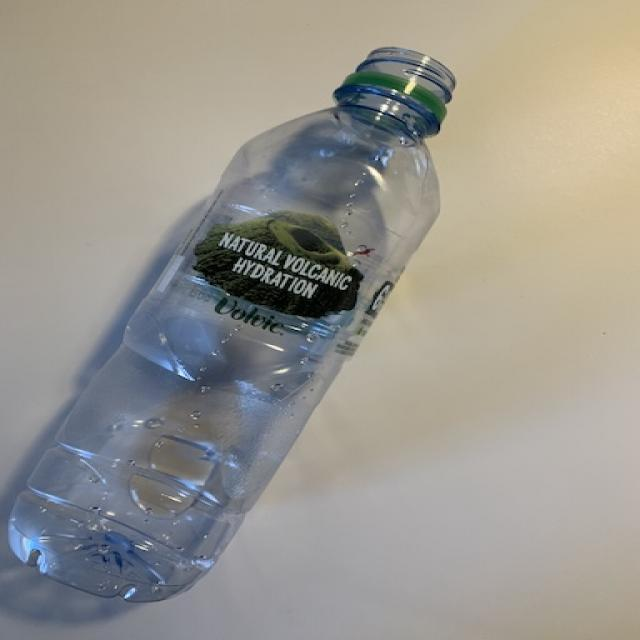plastic_bottle: (8, 46, 457, 602)
